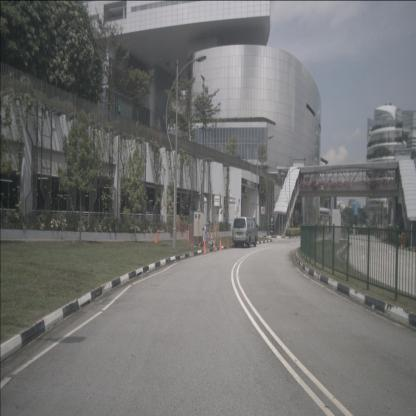movable_object-trafficcone: (202, 240, 207, 255), (154, 230, 159, 243), (218, 237, 222, 251), (212, 238, 216, 252), (226, 238, 230, 249), (187, 230, 190, 241)
vehicle-car: (232, 217, 258, 247)
